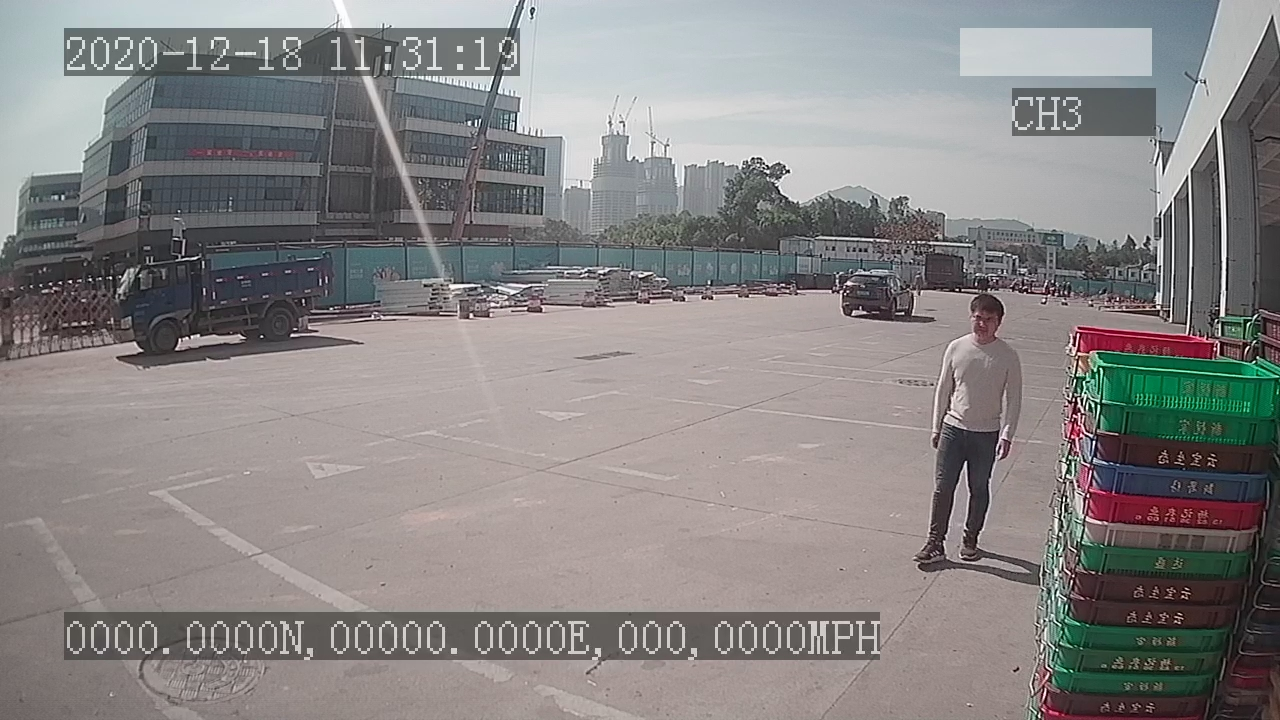person: (912, 289, 1025, 573)
